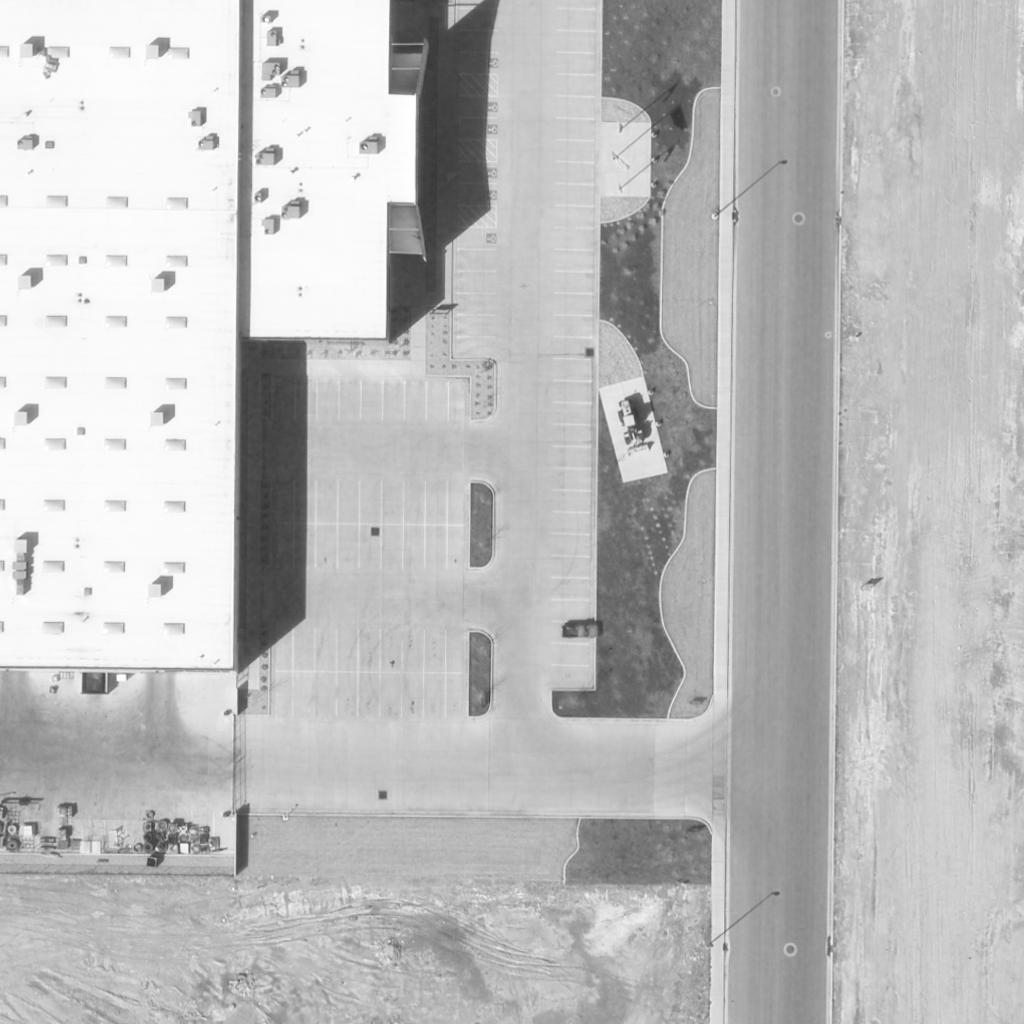vehicle: (612, 398, 652, 458)
